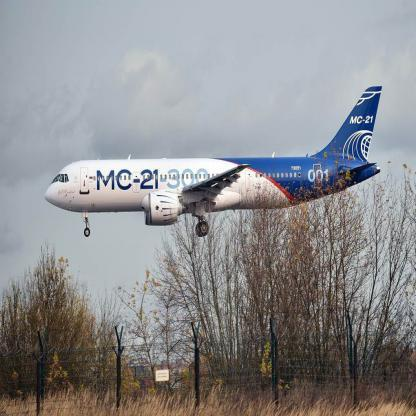CIV_Plane: (38, 82, 387, 243)
